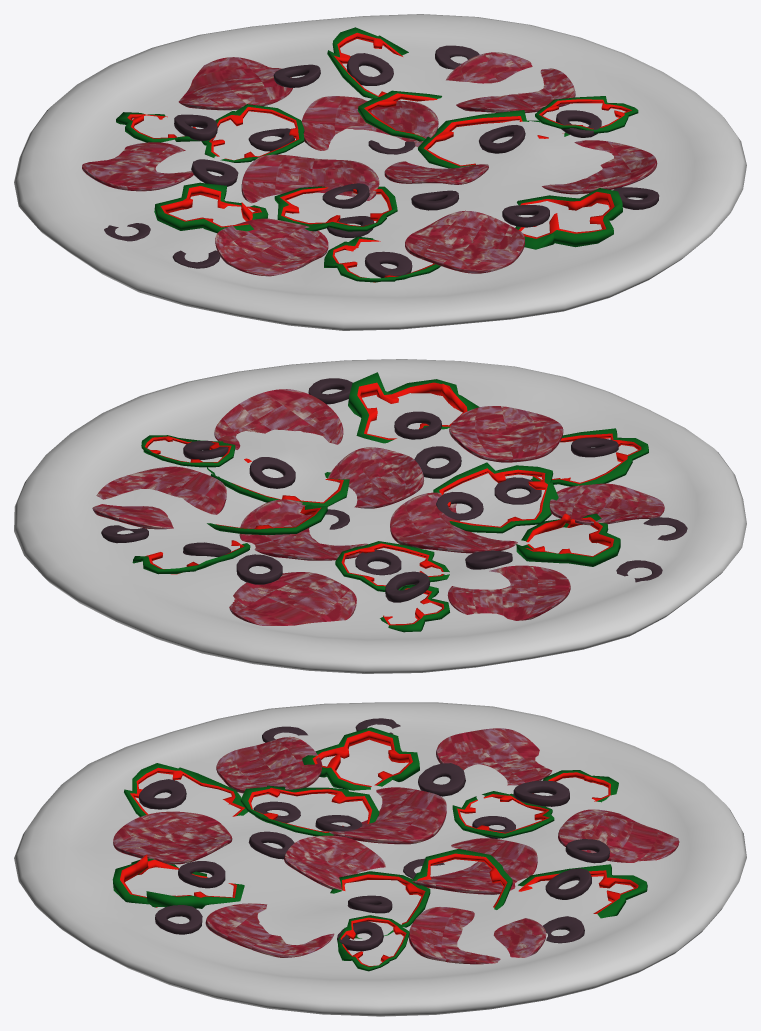
Rendered from pizza.fbx.
3 renders of one model, top to bottom at view 1: azimuth 30°, elevation 25°; view 2: azimuth 150°, elevation 25°; view 3: azimuth 270°, elevation 25°, orthographic.
Parts seen in each view (by area): view 1: pizza, meat1, meat6, meat7, meat8, meat4, meat3, meat5, piman.002, meat2, piman, piman.005 (+22 smaller); view 2: pizza, meat4, meat1, meat3, meat2, meat5, meat9, meat7, meat8, meat6, piman.002, piman.005 (+23 smaller); view 3: pizza, meat1, meat3, meat6, meat5, meat7, meat4, meat8, meat9, meat2, piman, piman.002 (+21 smaller).
Part boxes in pixels (x1=…): pizza: x1=14, y1=14, x2=746, y2=330; meat1: x1=405, y1=210, x2=524, y2=273; meat6: x1=215, y1=218, x2=328, y2=276; meat7: x1=241, y1=154, x2=379, y2=203; meat8: x1=301, y1=96, x2=438, y2=150; meat4: x1=178, y1=57, x2=292, y2=110; meat3: x1=446, y1=52, x2=575, y2=112; meat5: x1=82, y1=142, x2=193, y2=191; piman.002: x1=515, y1=188, x2=622, y2=249; meat2: x1=542, y1=140, x2=657, y2=194; piman: x1=154, y1=182, x2=268, y2=233; piman.005: x1=274, y1=186, x2=397, y2=231; pizza: x1=14, y1=359, x2=746, y2=673; meat4: x1=229, y1=572, x2=356, y2=625; meat1: x1=449, y1=406, x2=563, y2=462; meat3: x1=92, y1=466, x2=226, y2=529; meat2: x1=214, y1=389, x2=343, y2=449; meat5: x1=447, y1=565, x2=570, y2=620; meat9: x1=328, y1=447, x2=423, y2=508; meat7: x1=390, y1=492, x2=517, y2=553; meat8: x1=239, y1=499, x2=367, y2=560; meat6: x1=549, y1=483, x2=664, y2=525; piman.002: x1=348, y1=372, x2=479, y2=443; piman.005: x1=433, y1=462, x2=558, y2=533; pizza: x1=14, y1=702, x2=746, y2=1016; meat1: x1=113, y1=811, x2=232, y2=864; meat3: x1=409, y1=907, x2=546, y2=964; meat6: x1=216, y1=736, x2=322, y2=794; meat5: x1=436, y1=728, x2=552, y2=785; meat7: x1=320, y1=787, x2=446, y2=844; meat4: x1=558, y1=809, x2=679, y2=862; meat8: x1=411, y1=838, x2=537, y2=894; meat9: x1=284, y1=835, x2=385, y2=890; meat2: x1=205, y1=903, x2=334, y2=957; piman: x1=302, y1=727, x2=419, y2=790; piman.002: x1=112, y1=854, x2=244, y2=908.
Bounding box in the file's own units: 941 × 69.9 × 948.
